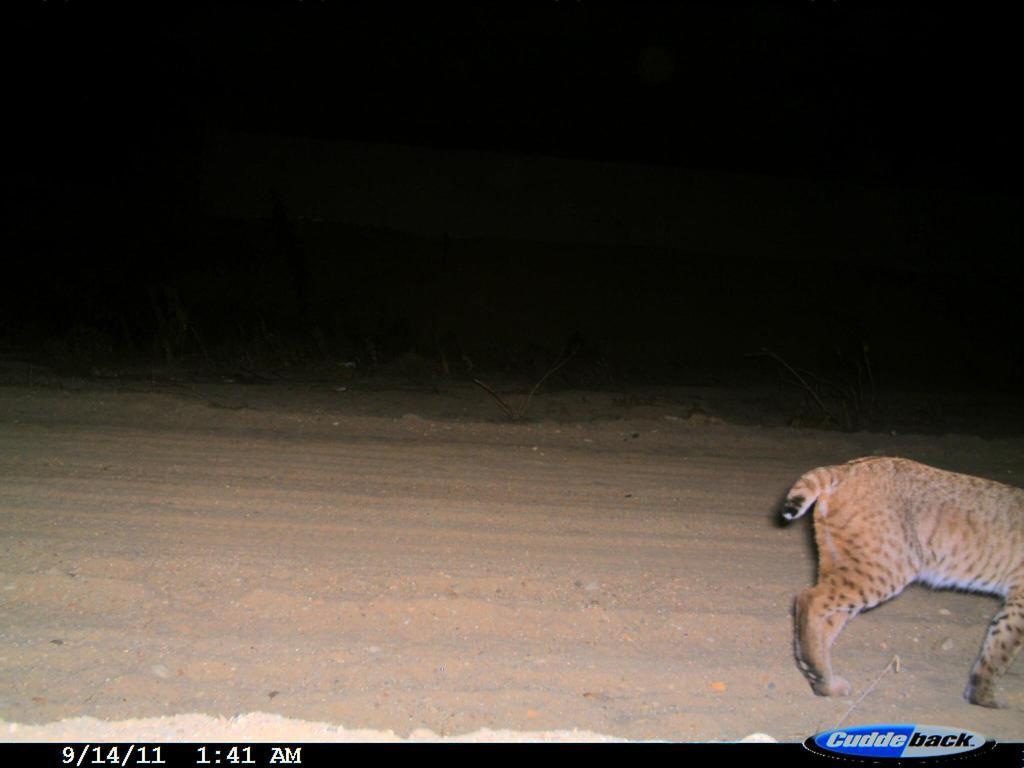bobcat: (728, 449, 1023, 706)
